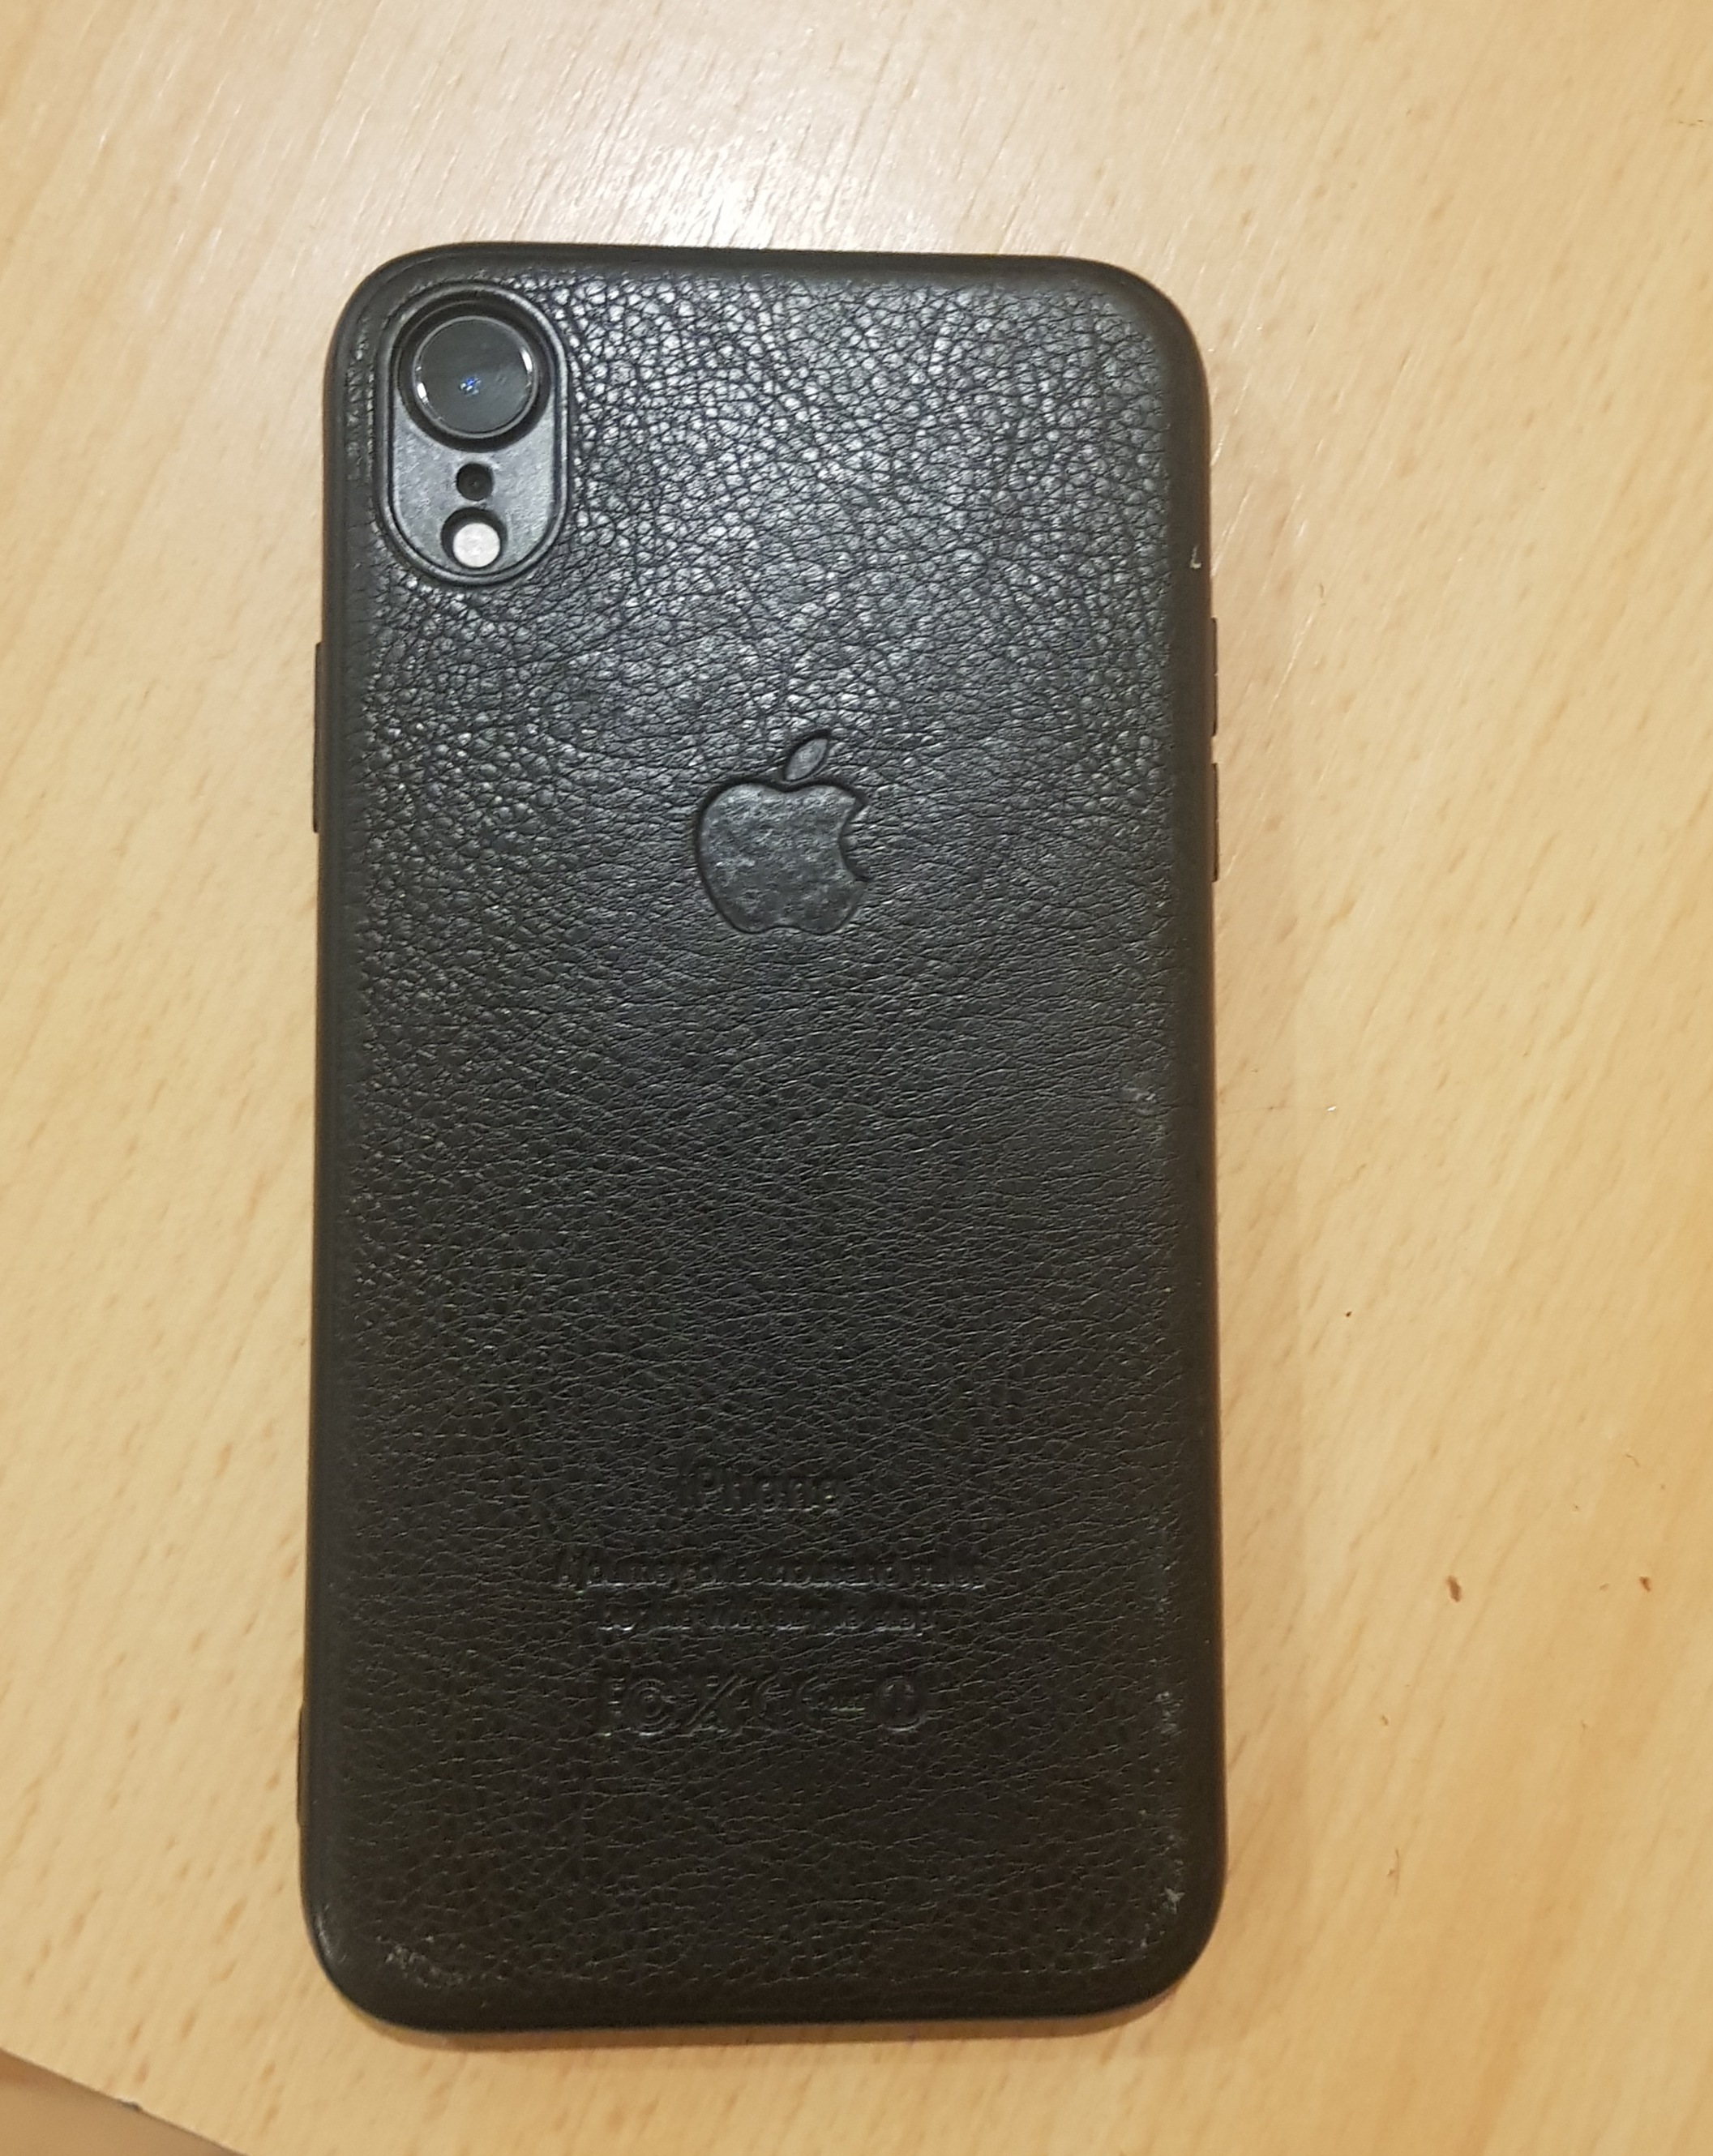Black: (276, 222, 1239, 2040)
